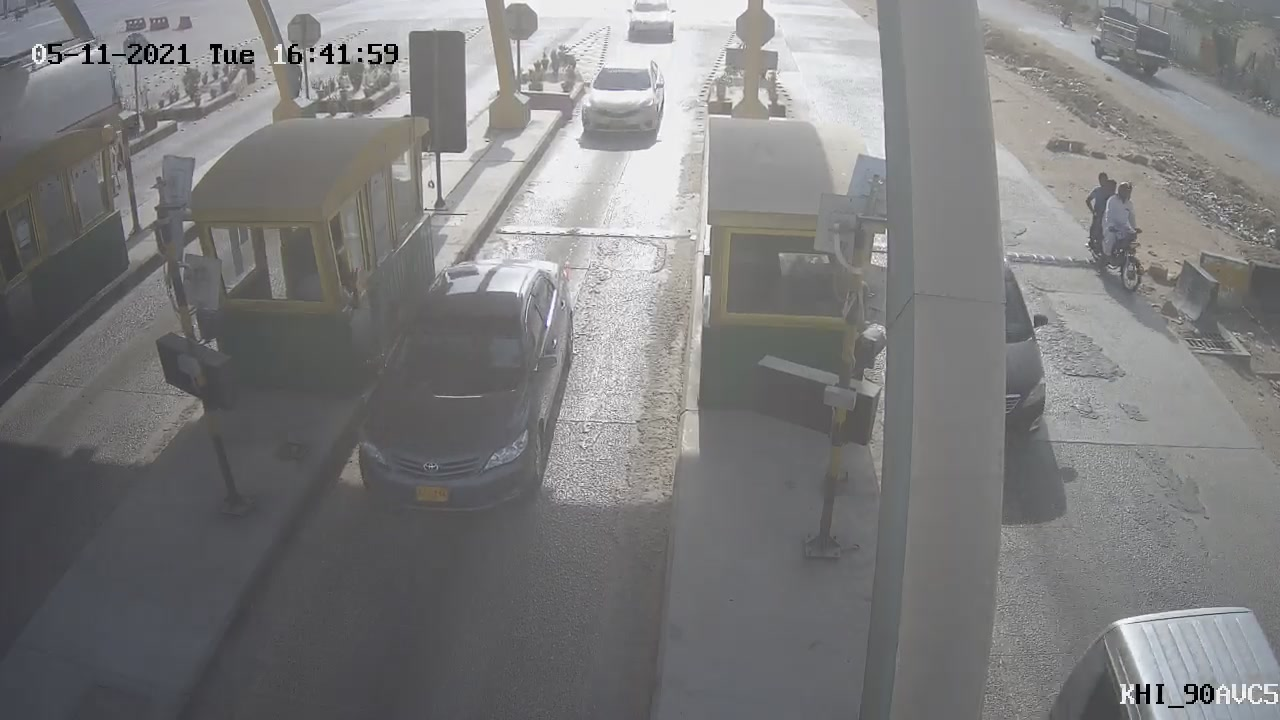F1: (344, 246, 585, 535), (569, 48, 678, 160)
